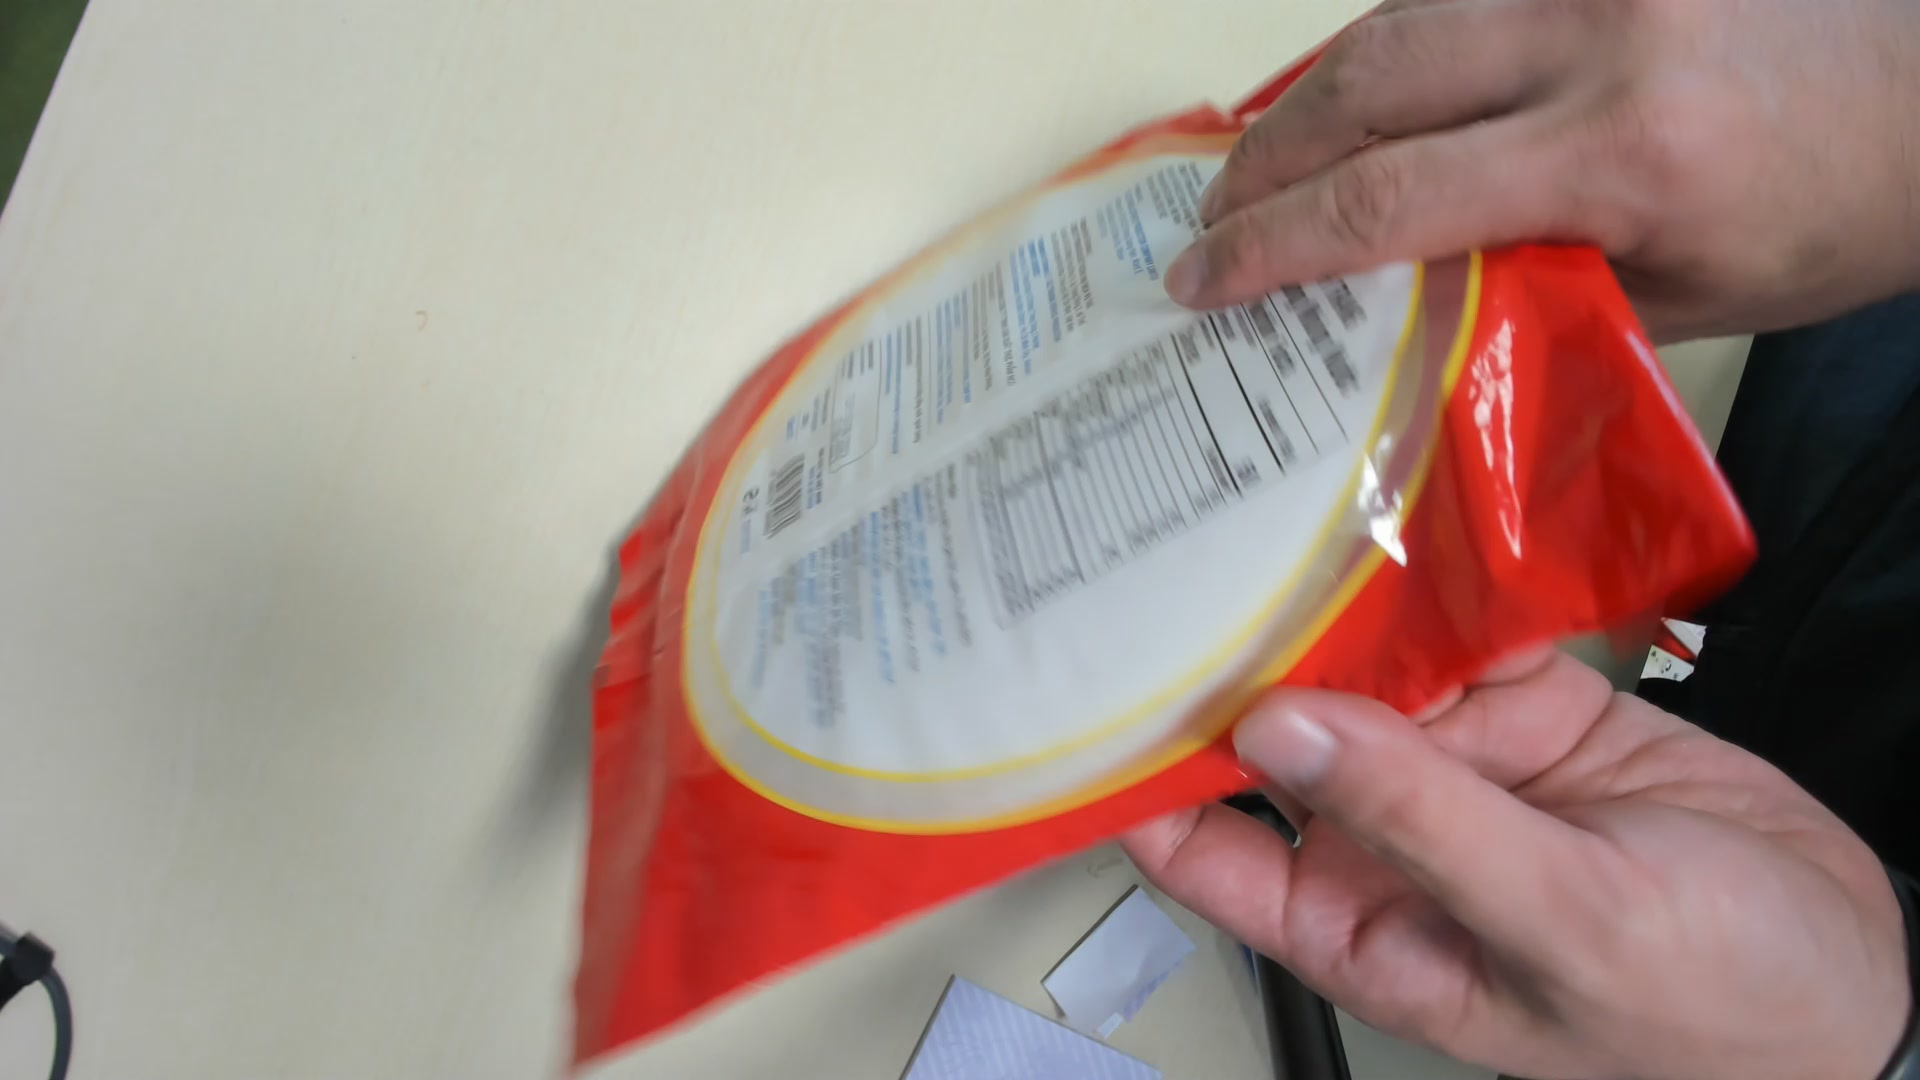InstantMeals_200_299g_NonHalal_NonHealthy: (570, 40, 1747, 1080)
